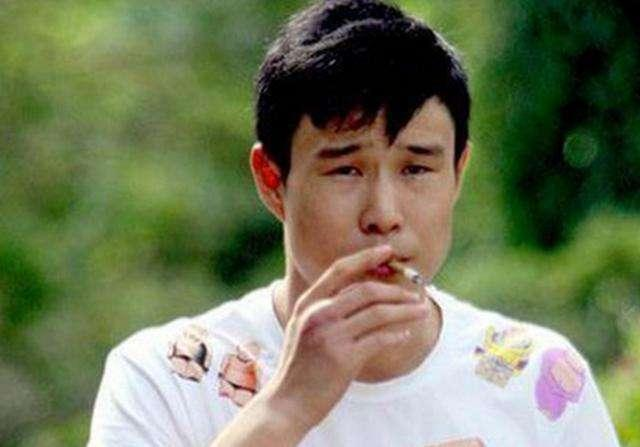SafeDriving: (388, 143, 449, 184), (310, 151, 372, 186)
Smoking: (385, 259, 429, 290)
